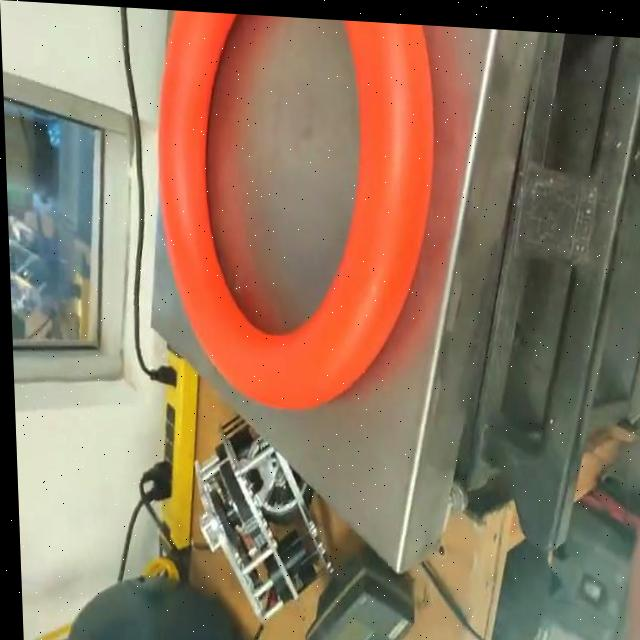note: (148, 7, 444, 418)
